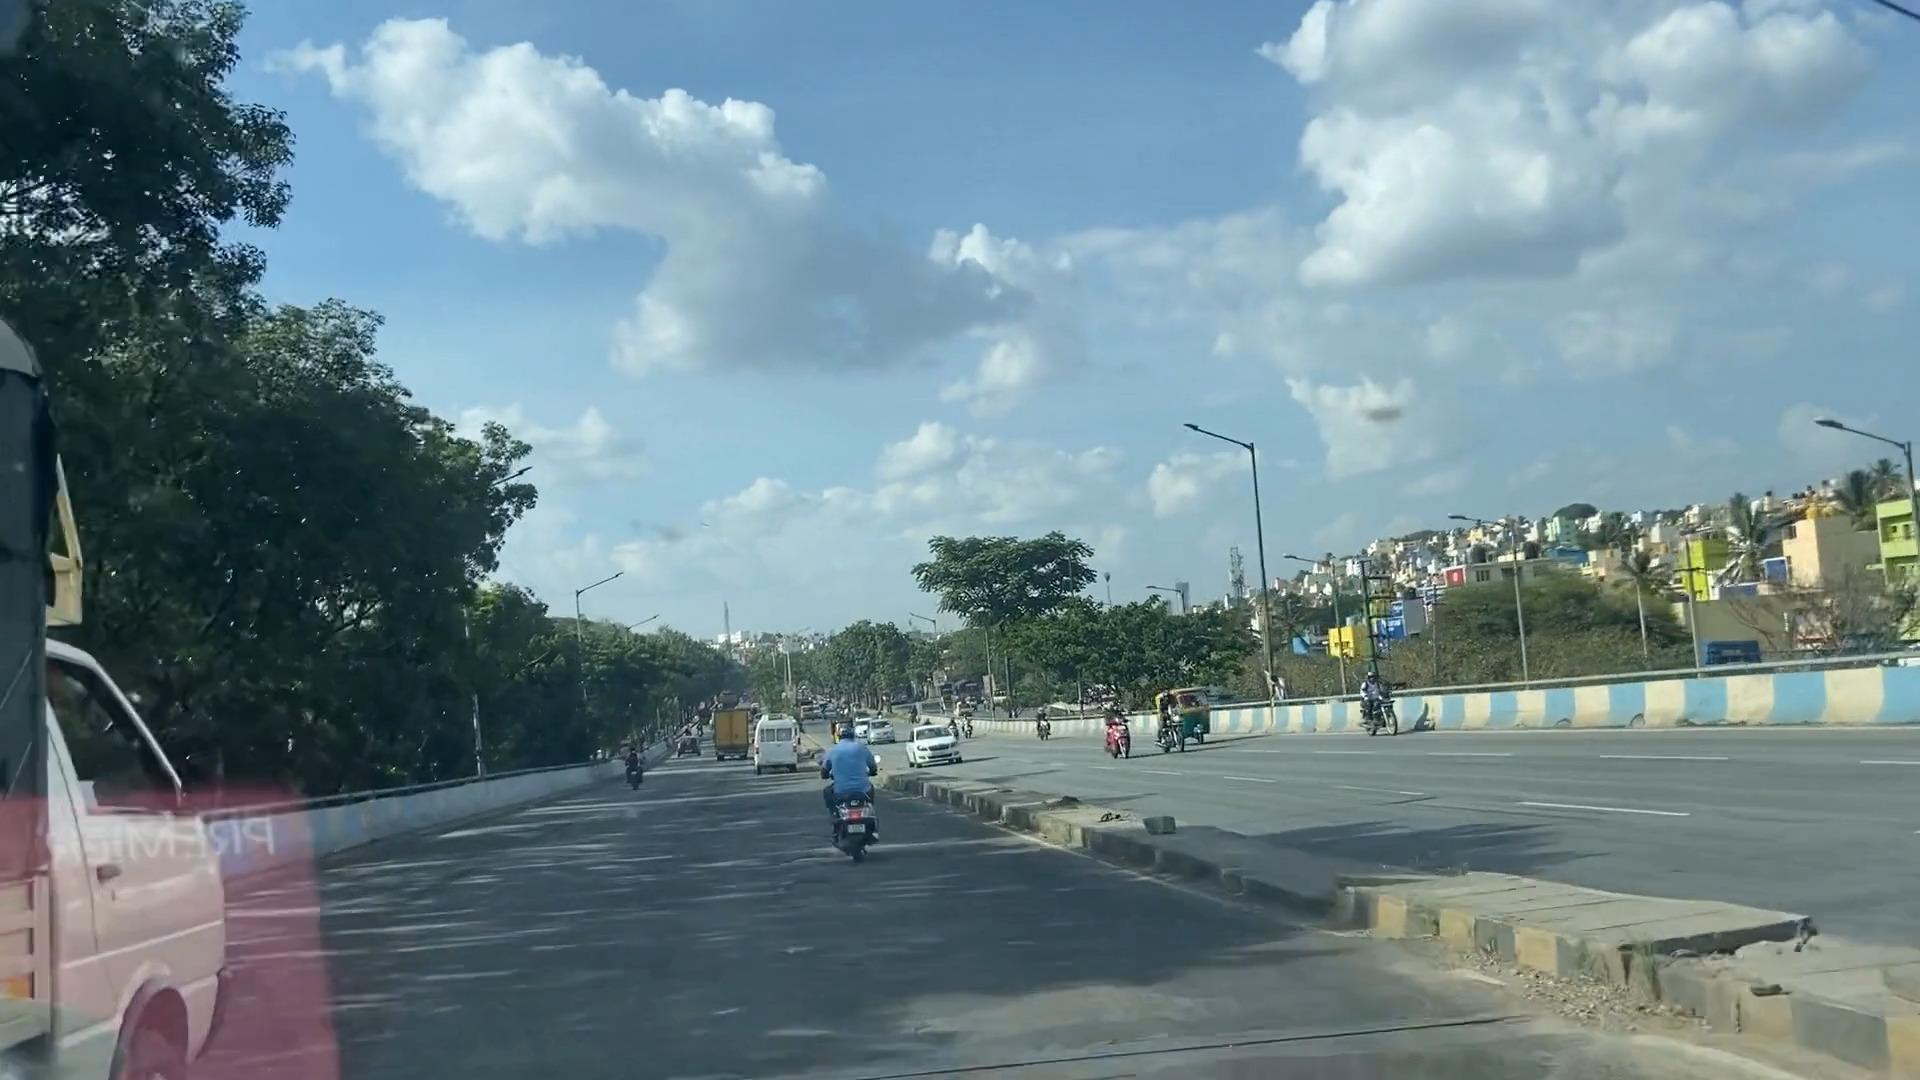LMV: (812, 711, 889, 868)
